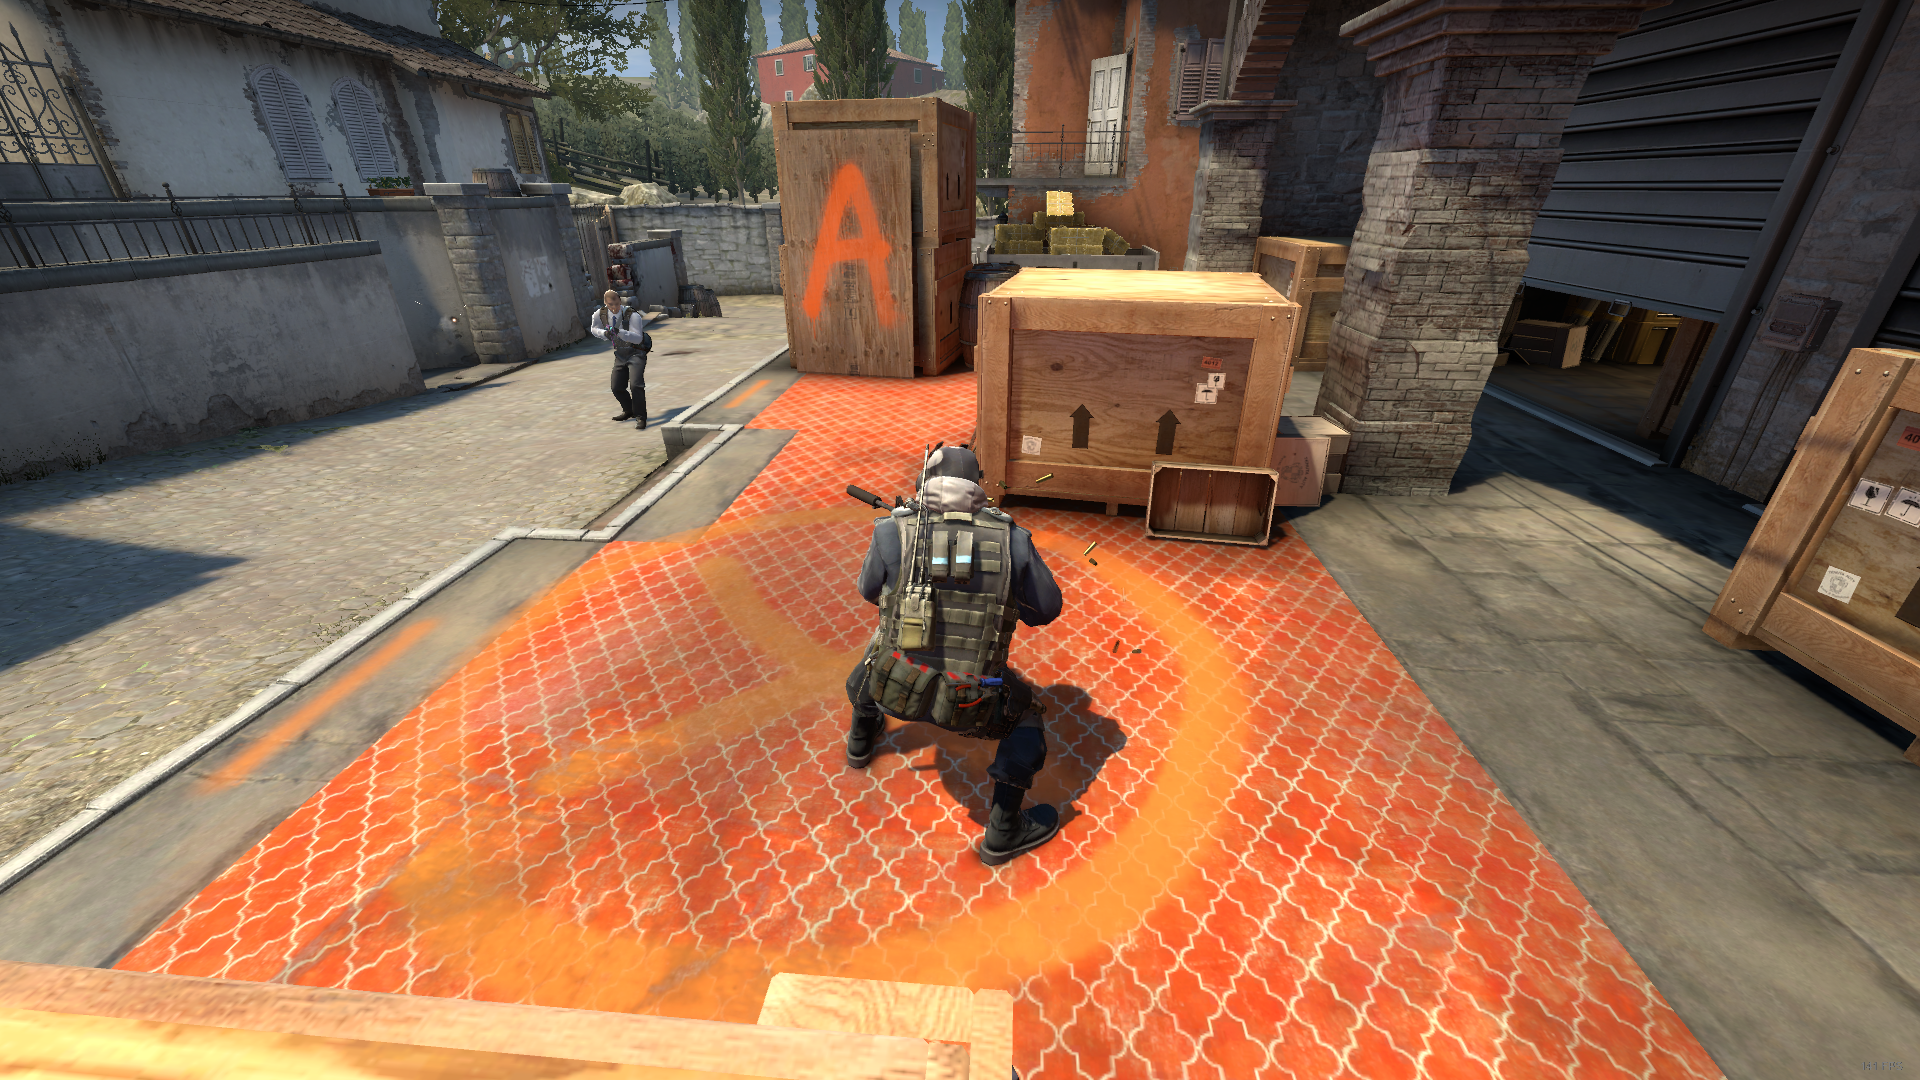ct: (845, 446, 1062, 865)
